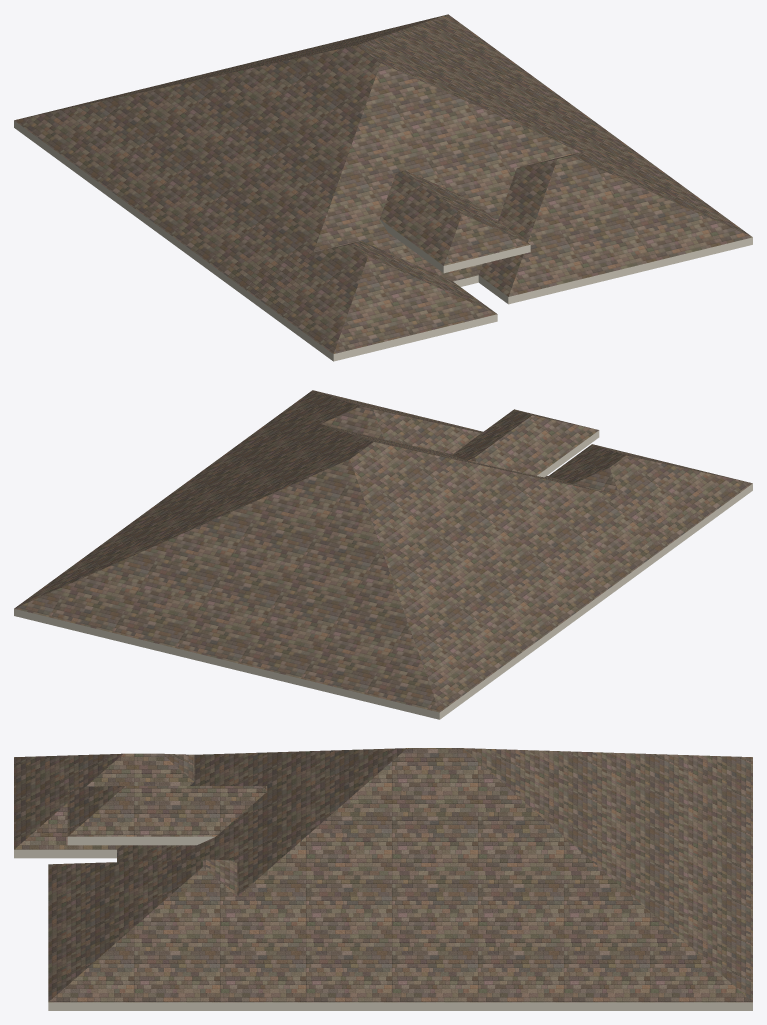
File: SM_House_Roof.fbx
3 renders of one model, top to bottom at view 1: azimuth 30°, elevation 25°; view 2: azimuth 150°, elevation 25°; view 3: azimuth 270°, elevation 25°, orthographic. The views are drawn at different scales.
Parts seen in each view (by area): view 1: SM_House_Roof; view 2: SM_House_Roof; view 3: SM_House_Roof.
Boxes of the visible parts, left/top/right/bottom form: SM_House_Roof: left=14, top=14, right=752, bottom=361; SM_House_Roof: left=14, top=390, right=752, bottom=719; SM_House_Roof: left=14, top=748, right=752, bottom=1010.
Size of the model in its own units: 13.5 by 3.6 by 17.2.
2 materials, 1 textured.
